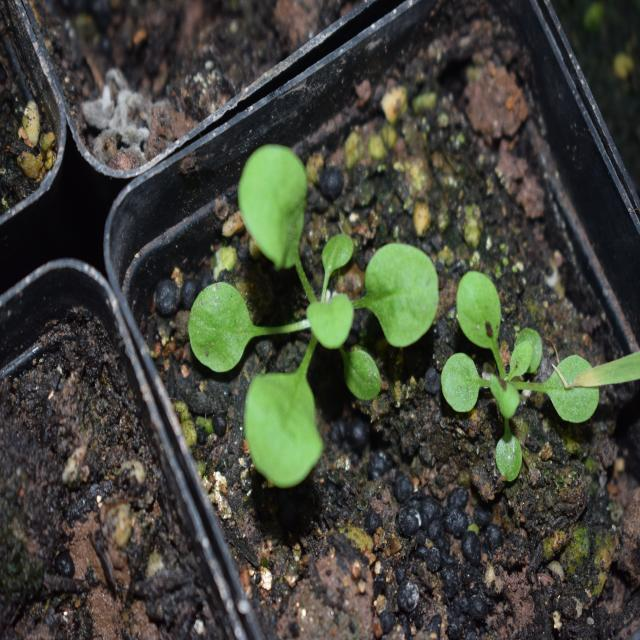Shepherd_Purse: (197, 135, 450, 478), (441, 272, 605, 480)
